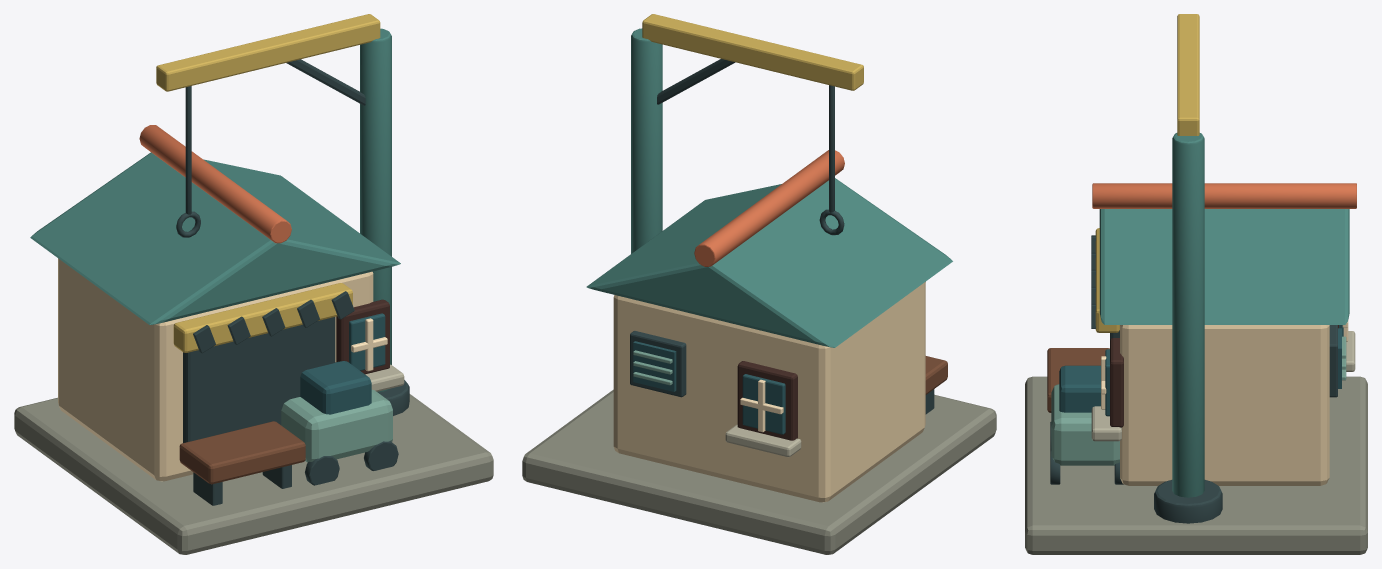
The model's file is maint_center.glb.
The picture shows the model from 3 angles, left to right: view 1: azimuth 30°, elevation 25°; view 2: azimuth 150°, elevation 25°; view 3: azimuth 270°, elevation 25°; orthographic projection.
Parts seen in each view (by area): view 1: maint_center · copper, maint_center · stone, maint_center · plaster, maint_center · metal, maint_center · crop, maint_center · wood_light, maint_center · copper_light, maint_center · tile_light, maint_center · window, maint_center · wood, maint_center · plaster_light, maint_center · stone_light; view 2: maint_center · plaster, maint_center · copper, maint_center · stone, maint_center · crop, maint_center · tile_light, maint_center · metal, maint_center · window, maint_center · wood, maint_center · stone_light, maint_center · plaster_light, maint_center · copper_light, maint_center · wood_light; view 3: maint_center · copper, maint_center · stone, maint_center · plaster, maint_center · tile_light, maint_center · metal, maint_center · crop, maint_center · copper_light, maint_center · window, maint_center · wood_light, maint_center · wood, maint_center · stone_light.
Boxes of the visible parts, x1=… form: maint_center · copper: x1=30, y1=28, x2=400, y2=392; maint_center · stone: x1=14, y1=394, x2=493, y2=554; maint_center · plaster: x1=58, y1=258, x2=373, y2=481; maint_center · metal: x1=176, y1=59, x2=409, y2=505; maint_center · crop: x1=156, y1=14, x2=380, y2=352; maint_center · wood_light: x1=179, y1=421, x2=305, y2=484; maint_center · copper_light: x1=281, y1=389, x2=392, y2=462; maint_center · tile_light: x1=139, y1=125, x2=291, y2=243; maint_center · window: x1=300, y1=313, x2=385, y2=414; maint_center · wood: x1=336, y1=299, x2=389, y2=374; maint_center · plaster_light: x1=351, y1=318, x2=387, y2=371; maint_center · stone_light: x1=365, y1=364, x2=404, y2=391; maint_center · plaster: x1=613, y1=282, x2=925, y2=502; maint_center · copper: x1=586, y1=28, x2=952, y2=347; maint_center · stone: x1=522, y1=389, x2=996, y2=554; maint_center · crop: x1=642, y1=14, x2=863, y2=90; maint_center · tile_light: x1=694, y1=150, x2=844, y2=266; maint_center · metal: x1=630, y1=59, x2=934, y2=414; maint_center · window: x1=633, y1=341, x2=785, y2=434; maint_center · wood: x1=737, y1=361, x2=797, y2=440; maint_center · stone_light: x1=725, y1=424, x2=801, y2=457; maint_center · plaster_light: x1=740, y1=379, x2=783, y2=432; maint_center · copper_light: x1=633, y1=350, x2=672, y2=385; maint_center · wood_light: x1=925, y1=356, x2=947, y2=394; maint_center · copper: x1=1099, y1=133, x2=1349, y2=497; maint_center · stone: x1=1025, y1=376, x2=1367, y2=554; maint_center · plaster: x1=1120, y1=325, x2=1329, y2=485; maint_center · tile_light: x1=1092, y1=183, x2=1356, y2=208; maint_center · metal: x1=1050, y1=235, x2=1337, y2=523; maint_center · crop: x1=1095, y1=14, x2=1199, y2=332; maint_center · copper_light: x1=1051, y1=336, x2=1346, y2=465; maint_center · window: x1=1059, y1=325, x2=1343, y2=416; maint_center · wood_light: x1=1047, y1=348, x2=1109, y2=412; maint_center · wood: x1=1110, y1=325, x2=1338, y2=427; maint_center · stone_light: x1=1091, y1=331, x2=1355, y2=441.
Bounding box in the file's own units: 0.91 × 1.15 × 0.85.
